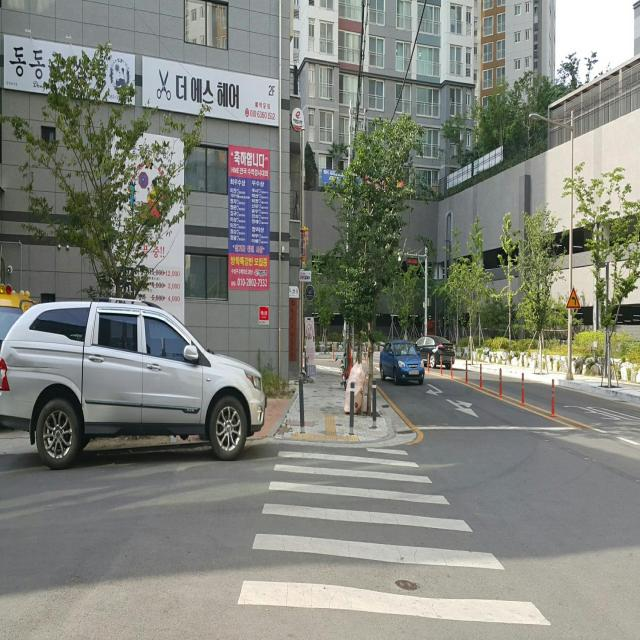횡단보도: (236, 448, 553, 630)
